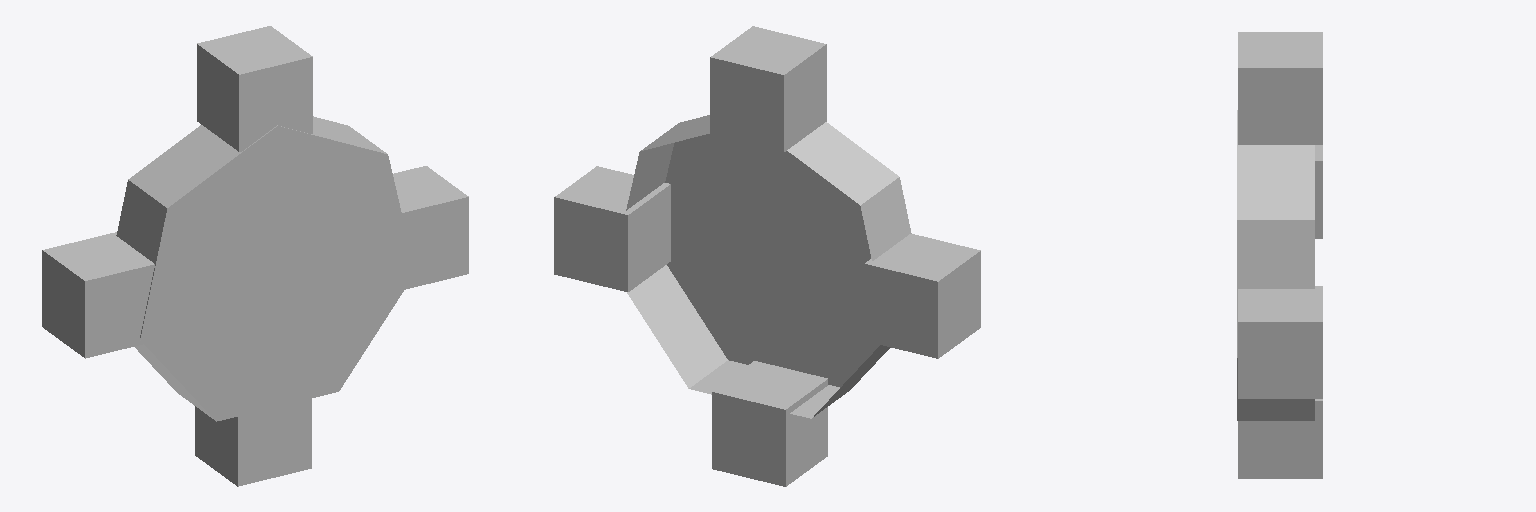
File: drone3Simple.obj
3 renders of one model, left to right at view 1: azimuth 30°, elevation 25°; view 2: azimuth 150°, elevation 25°; view 3: azimuth 270°, elevation 25°, orthographic.
Parts seen in each view (by area): view 1: Object.1; view 2: Object.1; view 3: Object.1.
Part boxes in pixels (left/top/right/bottom): Object.1: left=42, top=26, right=468, bottom=486; Object.1: left=554, top=26, right=980, bottom=486; Object.1: left=1237, top=32, right=1322, bottom=478.
Bounding box in the file's own units: 86.92 × 89.03 × 16.95.